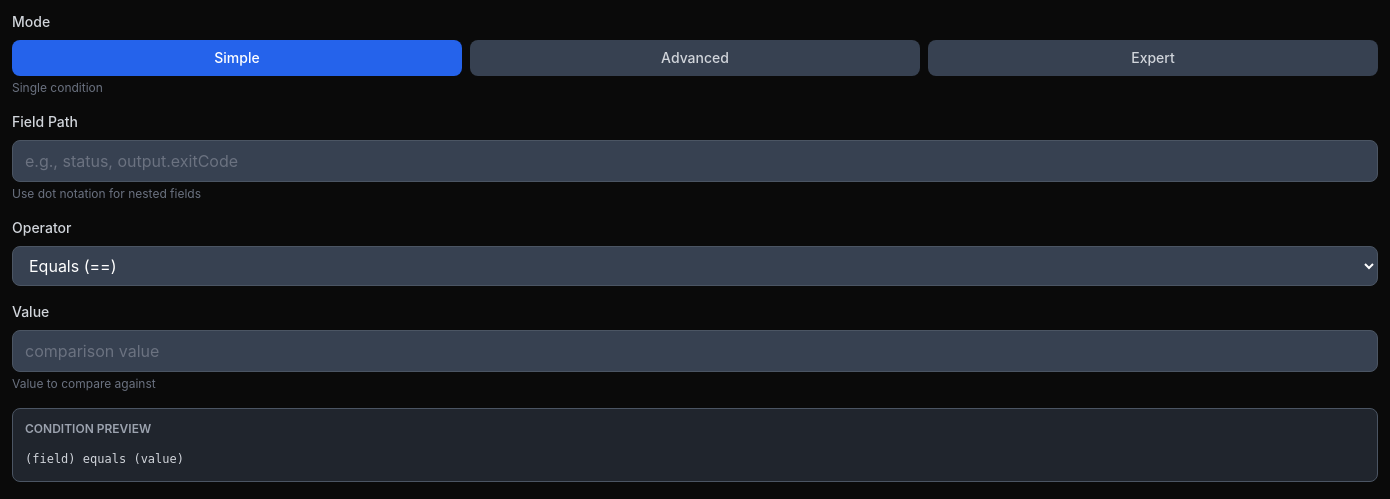
Test: ConditionalNodeSettings › advanced mode › switches to advanced mode
The width and height of the screenshot is (1390, 499).
Click the button "Advanced". click: {"x": 695, "y": 58}
box: x1=470 y1=40 x2=920 y2=76
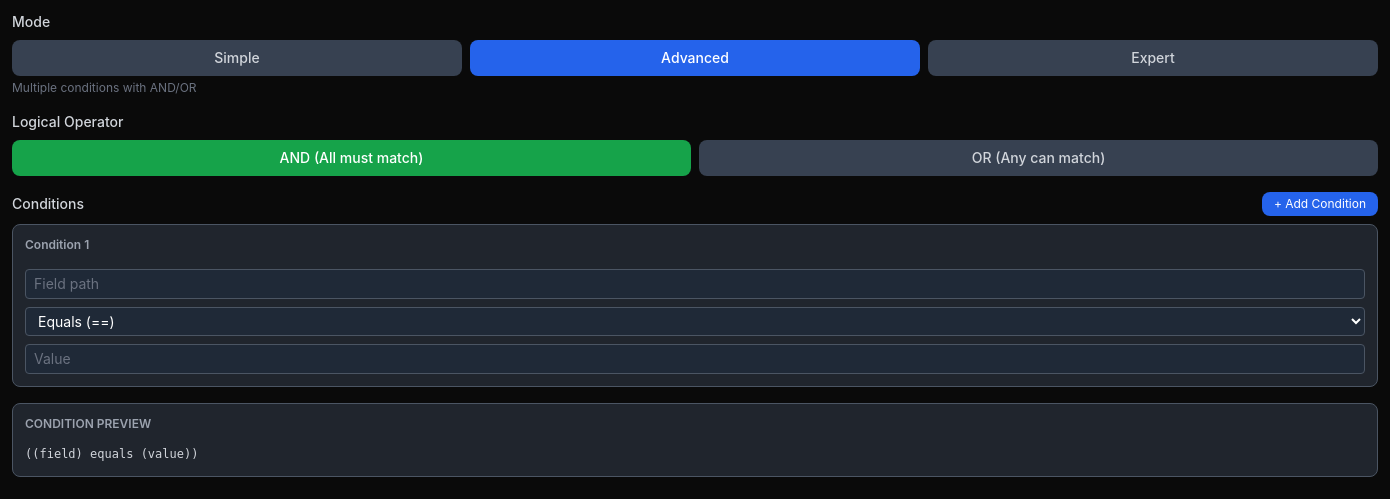
Expected: the text "Multiple conditions with AND/OR" is shown, x1=12 y1=80 x2=196 y2=95
